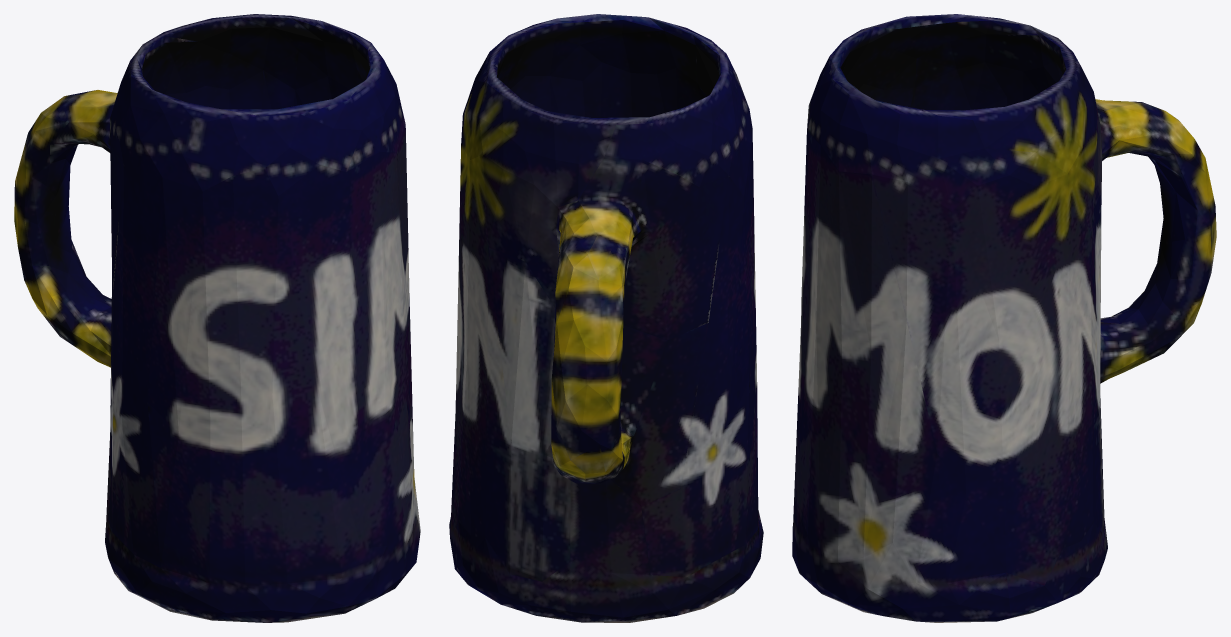
The model's file is 5D0C7D9A-A56E-724A-B47F-CDD7E73E2263_512.glb.
The picture shows the model from 3 angles, left to right: view 1: azimuth 30°, elevation 25°; view 2: azimuth 150°, elevation 25°; view 3: azimuth 270°, elevation 25°; orthographic projection.
Visible parts, largest first — view 1: Krug Blau_1k_512; view 2: Krug Blau_1k_512; view 3: Krug Blau_1k_512.
Boxes of the visible parts, bbox=[...] form: Krug Blau_1k_512: bbox=[14, 14, 420, 622]; Krug Blau_1k_512: bbox=[449, 14, 763, 622]; Krug Blau_1k_512: bbox=[792, 14, 1216, 622].
Bounding box in the file's own units: 0.1134 × 0.1982 × 0.1518.
1 material, 1 textured.
